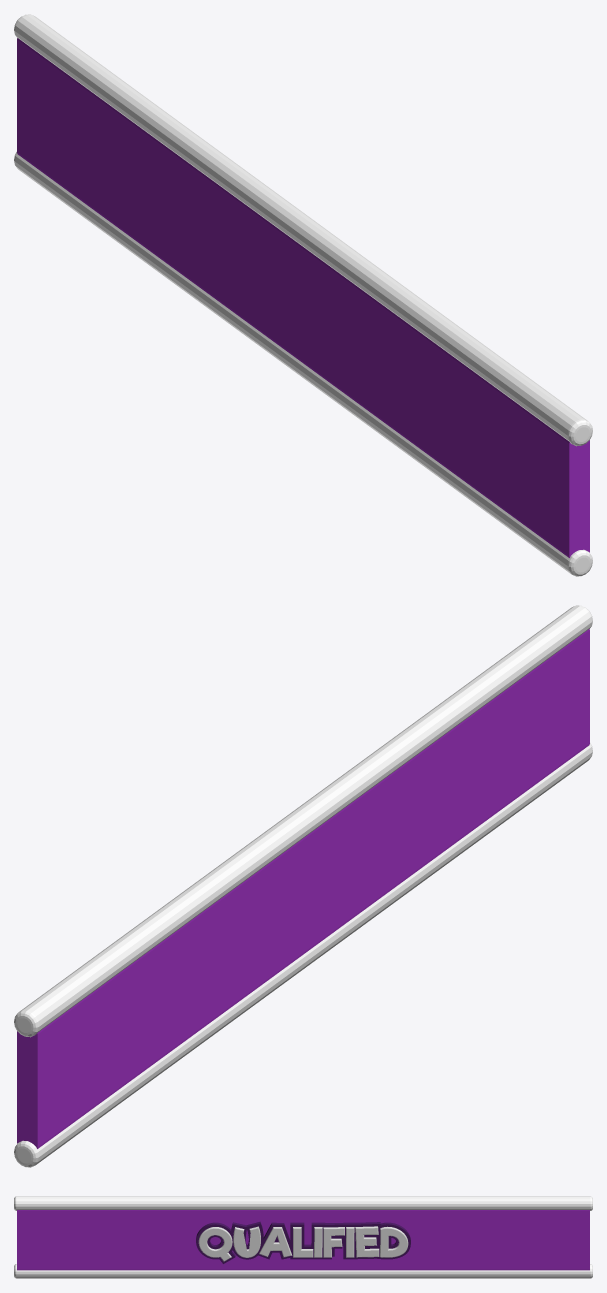
File: QualifiedText.fbx
The picture shows the model from 3 angles, top to bottom: view 1: azimuth 30°, elevation 25°; view 2: azimuth 150°, elevation 25°; view 3: azimuth 270°, elevation 25°; orthographic projection. The views are drawn at different scales.
Parts seen in each view (by area): view 1: Cube, Cylinder_5, Cylinder_6; view 2: Cube, Cylinder_5, Cylinder_6; view 3: Cube, Cylinder_5, Cylinder_6, Extrude_1, Extrude_2.
Boxes of the visible parts, bbox=[...] form: Cube: bbox=[17, 38, 589, 557]; Cylinder_5: bbox=[14, 14, 592, 446]; Cylinder_6: bbox=[14, 152, 592, 576]; Cube: bbox=[17, 629, 589, 1148]; Cylinder_5: bbox=[14, 605, 592, 1037]; Cylinder_6: bbox=[14, 743, 592, 1167]; Cube: bbox=[17, 1210, 589, 1270]; Cylinder_5: bbox=[14, 1196, 592, 1210]; Cylinder_6: bbox=[14, 1264, 592, 1278]; Extrude_1: bbox=[198, 1226, 408, 1261]; Extrude_2: bbox=[196, 1221, 410, 1263].
Bounding box in the file's own units: 138 × 606 × 3924.
